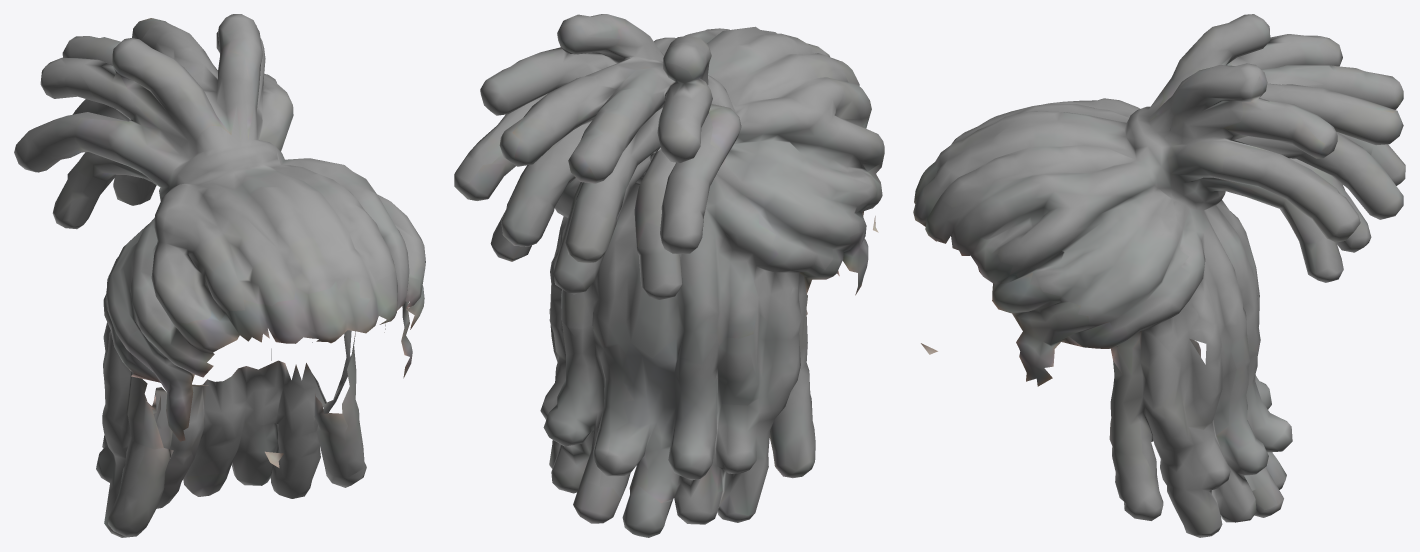
The model's file is hair-m-locs.glb.
The picture shows the model from 3 angles, left to right: view 1: azimuth 30°, elevation 25°; view 2: azimuth 150°, elevation 25°; view 3: azimuth 270°, elevation 25°; orthographic projection. The views are drawn at different scales.
Visible parts, largest first — view 1: hair-m-locs; view 2: hair-m-locs; view 3: hair-m-locs.
Part boxes in pixels (left/top/right/bottom): hair-m-locs: left=14, top=14, right=425, bottom=537; hair-m-locs: left=454, top=14, right=884, bottom=537; hair-m-locs: left=913, top=14, right=1405, bottom=537.
Bounding box in the file's own units: 0.8944 × 1.48 × 1.42.
1 material, 1 textured.
